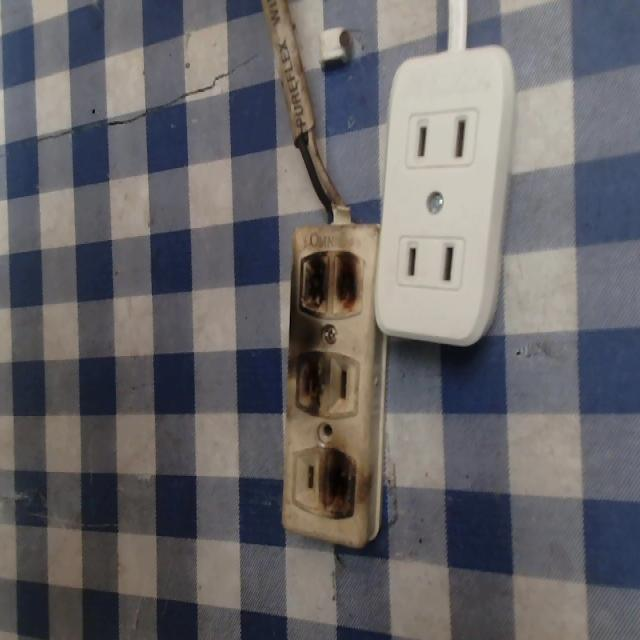-: (293, 244, 366, 324), (284, 349, 329, 424), (318, 443, 357, 529)
